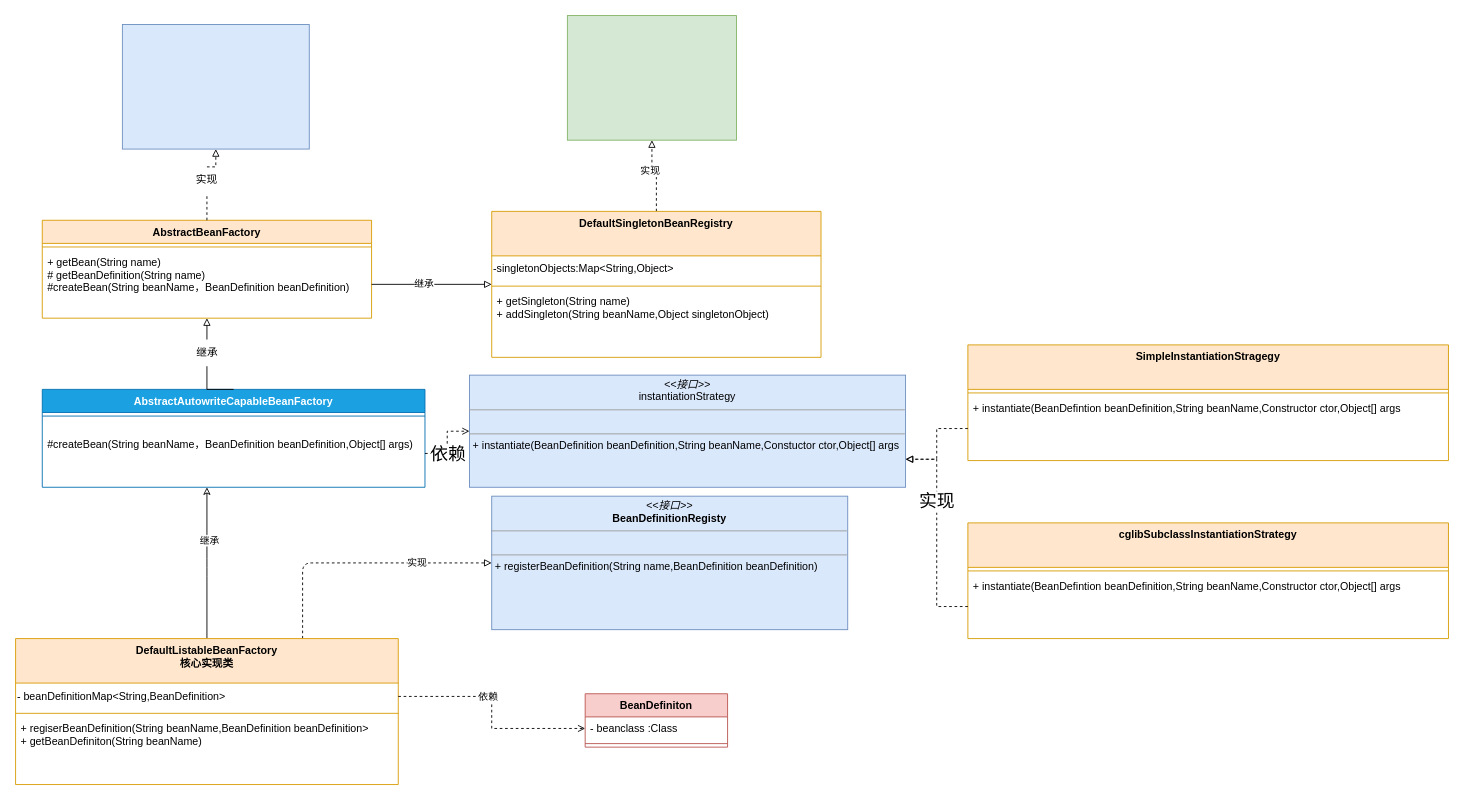
This 1464x803 diagram has some shape labels left out. Here are the shapes that lost their labels. From the top down, the centre of each, then its label:
At point (215, 86): "<<接口>> BeanFactory + getBean(String name) + getBean(String name,Object ...args)".
At point (651, 77): "<<接口>> SingleLetonRegistery + getSingleton(String name)".
